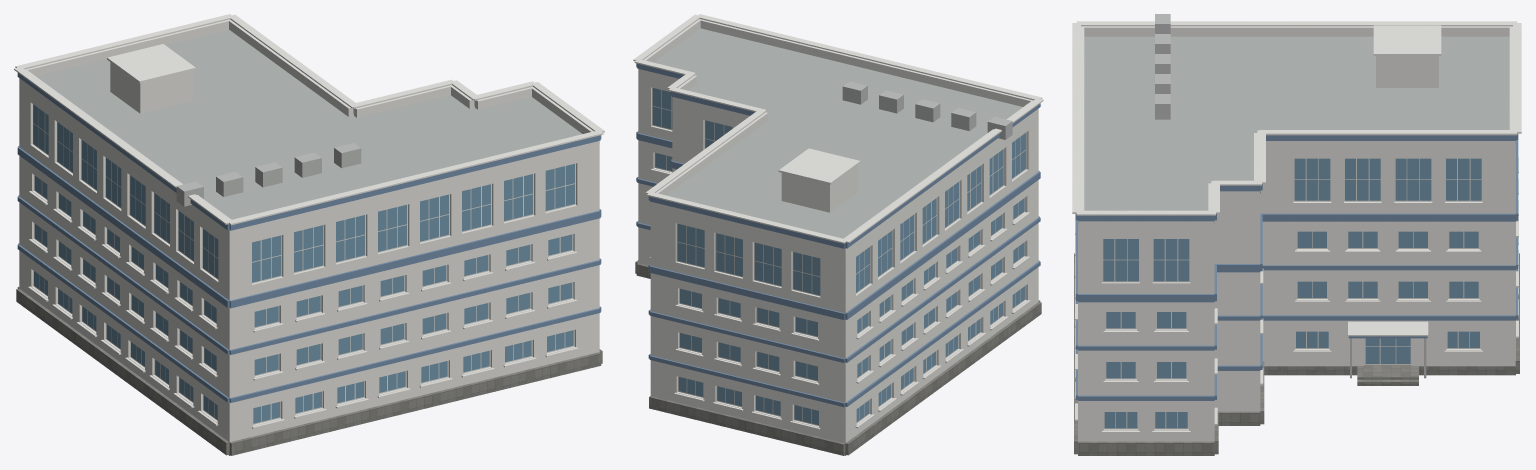
The picture shows the model from 3 angles, left to right: view 1: azimuth 30°, elevation 25°; view 2: azimuth 150°, elevation 25°; view 3: azimuth 270°, elevation 25°; orthographic projection. The views are drawn at different scales.
Parts seen in each view (by area): view 1: annex__white, annex__roofpale, annex__glass, annex__bluegrey, annex__stone, annex__frame, annex__unit; view 2: annex__white, annex__roofpale, annex__glass, annex__bluegrey, annex__stone, annex__frame, annex__unit; view 3: annex__white, annex__roofpale, annex__glass, annex__bluegrey, annex__stone, annex__frame, annex__unit, annex__stair-east, annex__threshold-east.
Boxes of the visible parts, bbox=[...] form: annex__white: bbox=[14, 14, 604, 442]; annex__roofpale: bbox=[37, 29, 599, 219]; annex__glass: bbox=[33, 104, 574, 423]; annex__bluegrey: bbox=[17, 73, 601, 402]; annex__stone: bbox=[16, 286, 602, 455]; annex__frame: bbox=[33, 104, 575, 424]; annex__unit: bbox=[176, 143, 361, 206]; annex__white: bbox=[633, 14, 1043, 443]; annex__roofpale: bbox=[654, 28, 1022, 251]; annex__glass: bbox=[653, 88, 1025, 424]; annex__bluegrey: bbox=[636, 63, 1040, 407]; annex__stone: bbox=[635, 260, 1041, 455]; annex__frame: bbox=[652, 87, 1026, 425]; annex__unit: bbox=[842, 81, 1012, 139]; annex__white: bbox=[1072, 21, 1521, 441]; annex__roofpale: bbox=[1078, 36, 1515, 224]; annex__glass: bbox=[1103, 158, 1481, 428]; annex__bluegrey: bbox=[1075, 133, 1518, 400]; annex__stone: bbox=[1074, 253, 1519, 455]; annex__frame: bbox=[1102, 158, 1482, 429]; annex__unit: bbox=[1155, 14, 1426, 378]; annex__stair-east: bbox=[1357, 375, 1418, 385]; annex__threshold-east: bbox=[1357, 365, 1418, 374].
Bounding box in the file's own units: 29.2 × 18.8 × 28.46.
Materials: 7 (3 with a texture image).
